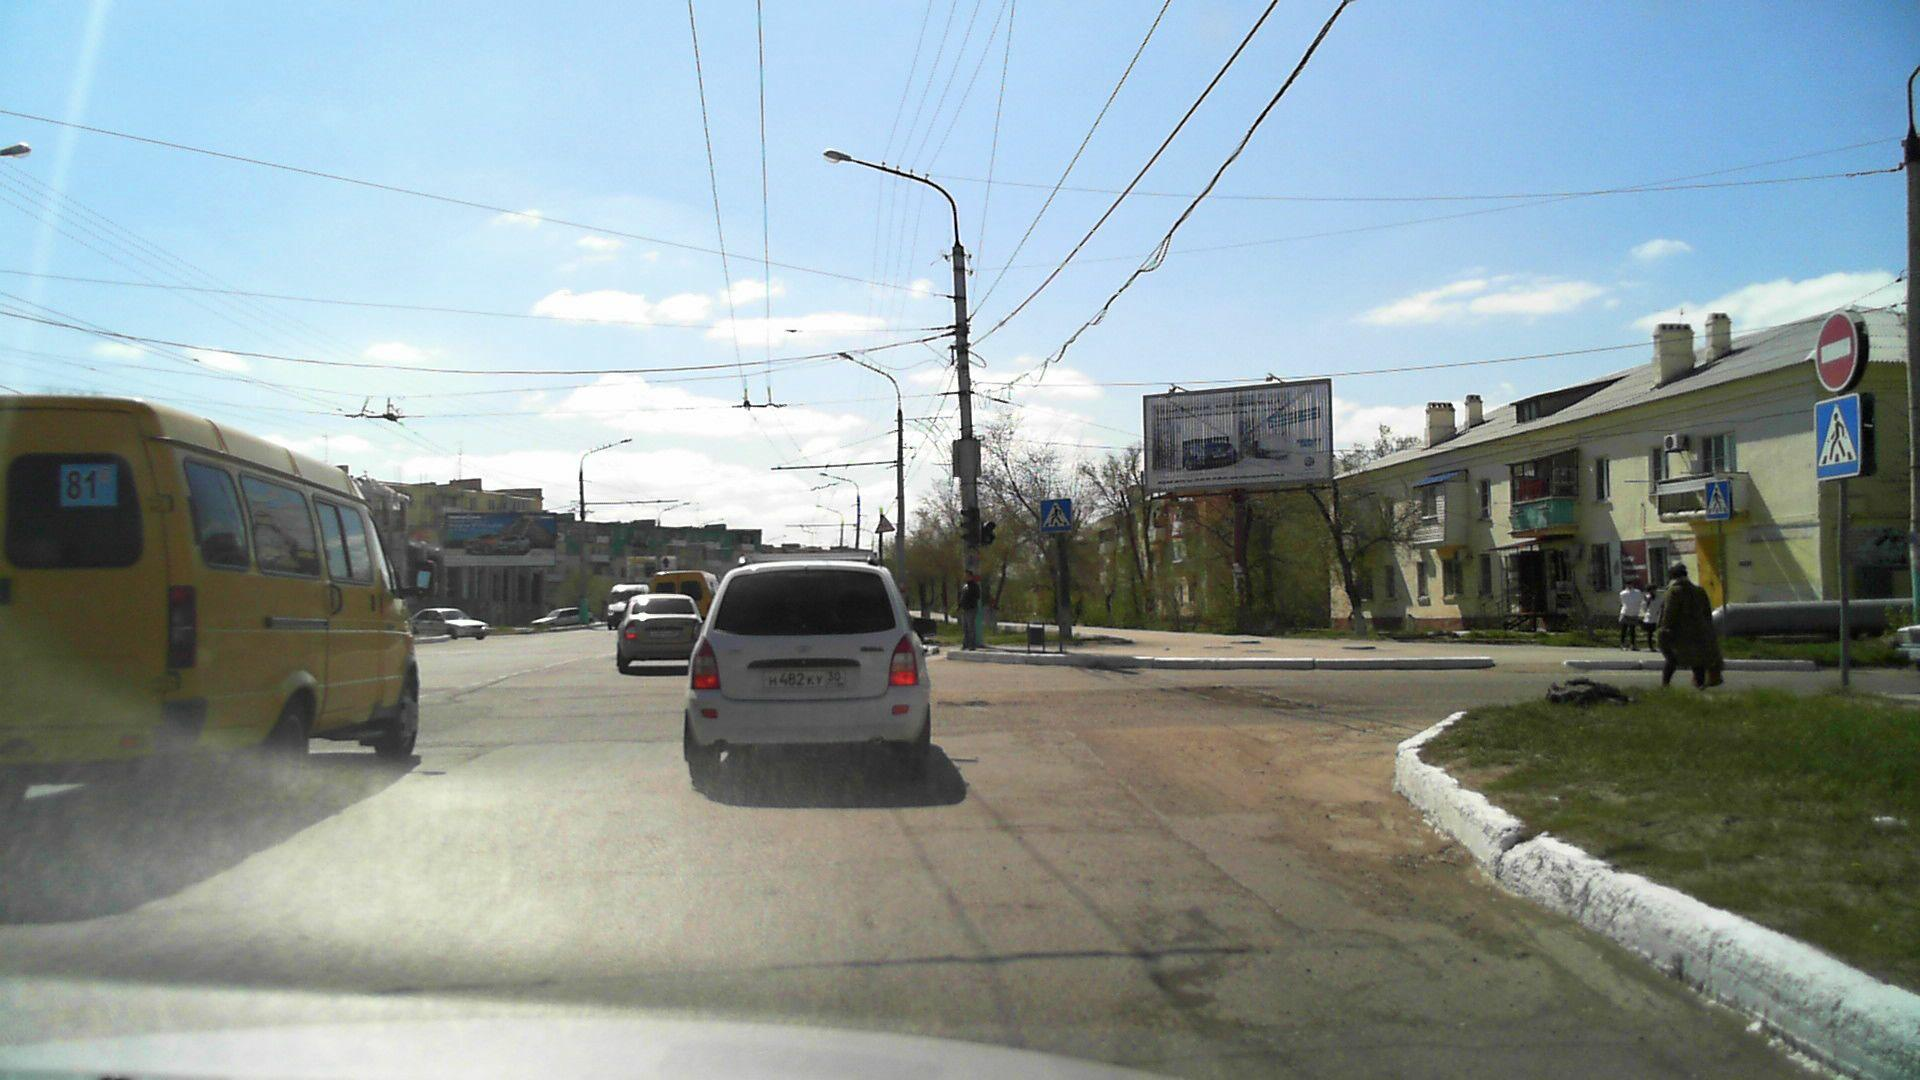1_23: (874, 514, 895, 533)
3_1: (1816, 313, 1859, 390)
5_19_1: (1813, 397, 1862, 477), (1038, 497, 1073, 531)
5_19_2: (1704, 480, 1733, 521)
